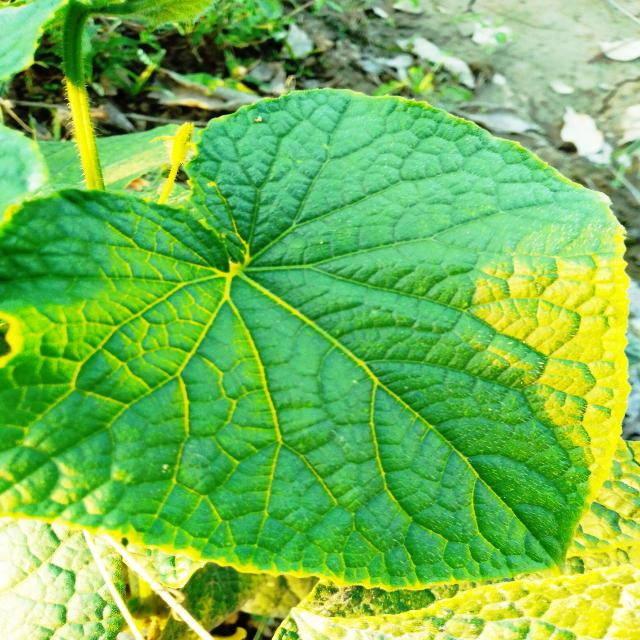Fresh-Leaf: (0, 85, 629, 590)
